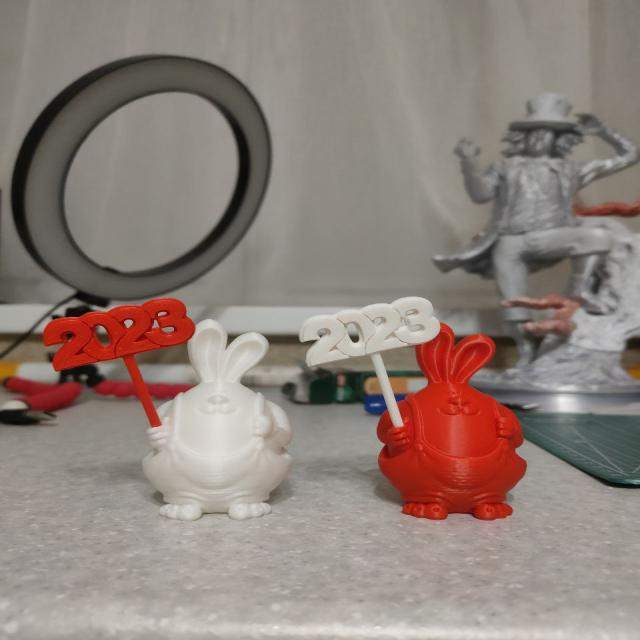Without deffect: (33, 294, 552, 536)
